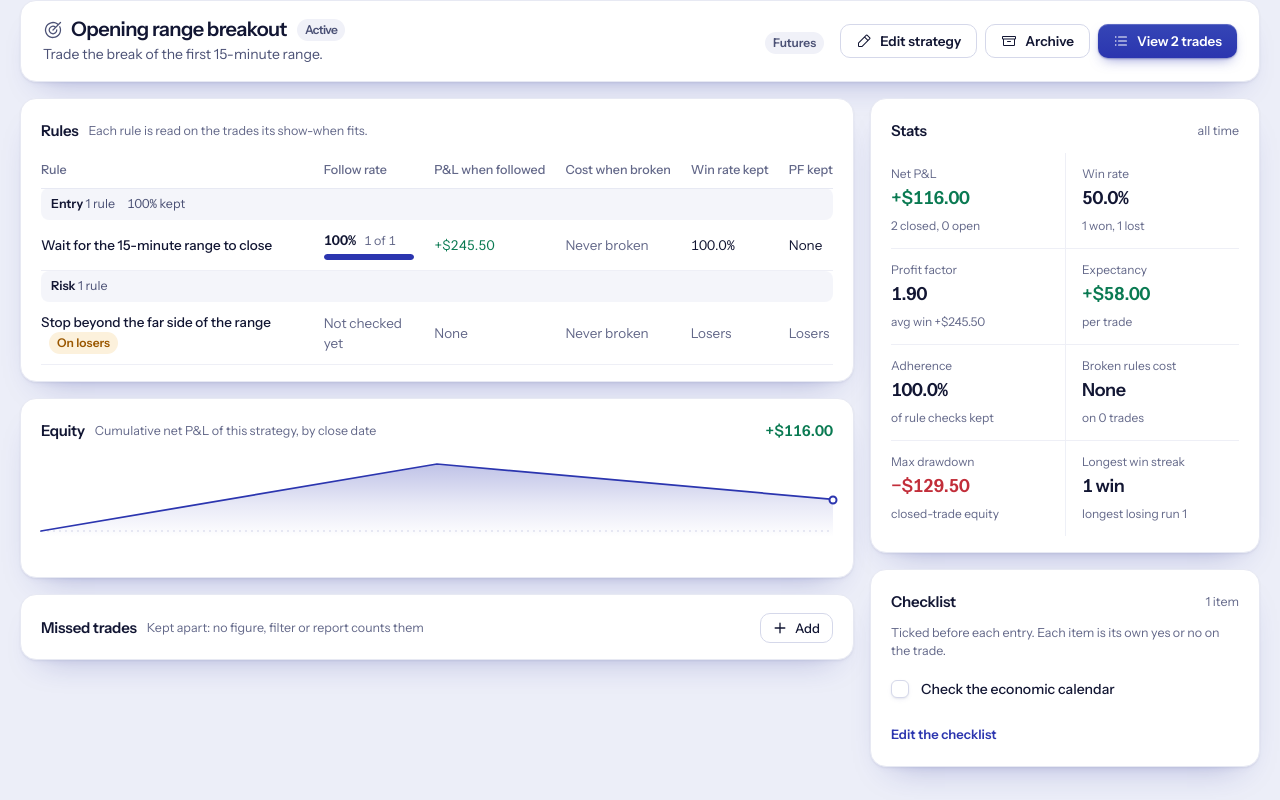
Test: Archive sets it aside, and the button turns into Unarchive
Click the button "Archive" at point(1038, 41), box top-left (985, 24), bottom-right (1090, 58)
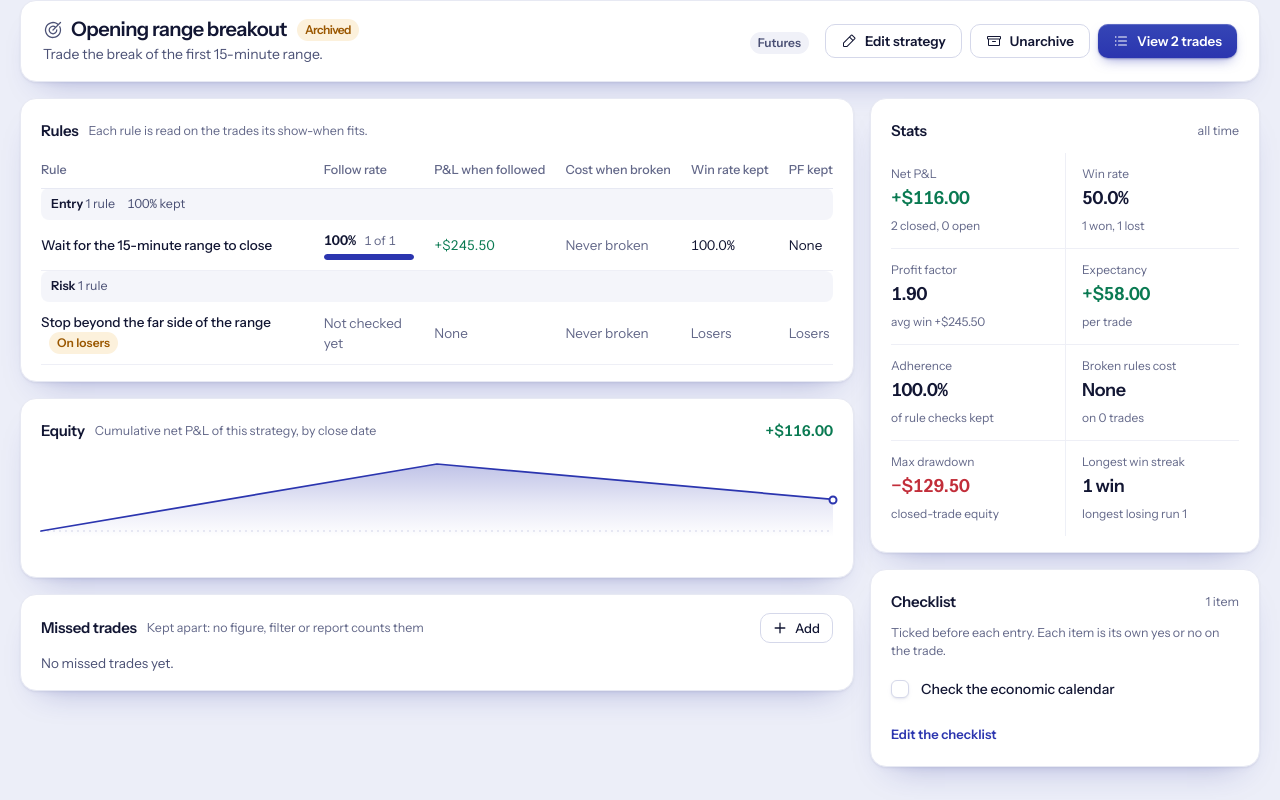
Now the button "Unarchive" is shown, box top-left (970, 24), bottom-right (1090, 58)
